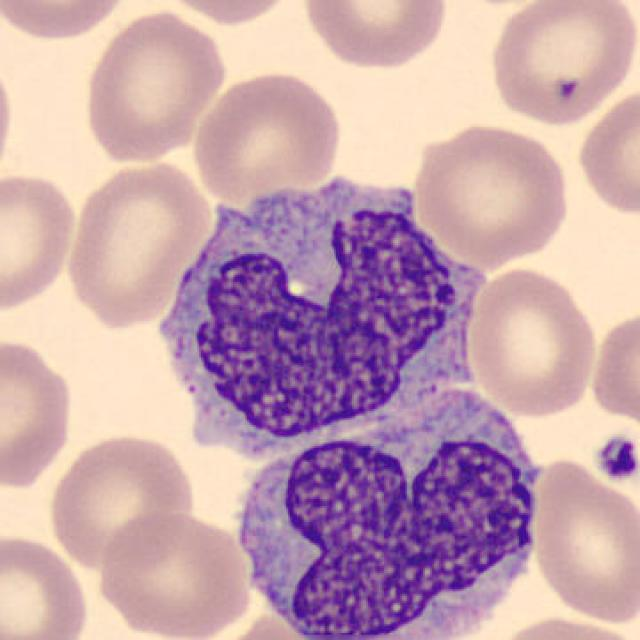Monocyte: (144, 162, 501, 490), (224, 388, 553, 640)
Platelets: (592, 432, 638, 485)
RBC: (63, 154, 214, 332), (407, 118, 574, 268), (78, 7, 230, 166), (44, 428, 198, 573), (188, 67, 345, 203), (464, 264, 599, 420), (93, 510, 255, 638), (483, 0, 640, 127), (526, 455, 640, 628), (0, 332, 78, 496), (0, 168, 80, 316), (298, 0, 453, 72), (0, 530, 92, 640), (572, 81, 638, 220), (587, 303, 638, 430), (0, 0, 133, 44), (483, 612, 640, 640), (155, 0, 302, 28), (201, 612, 327, 640), (0, 46, 18, 192)
